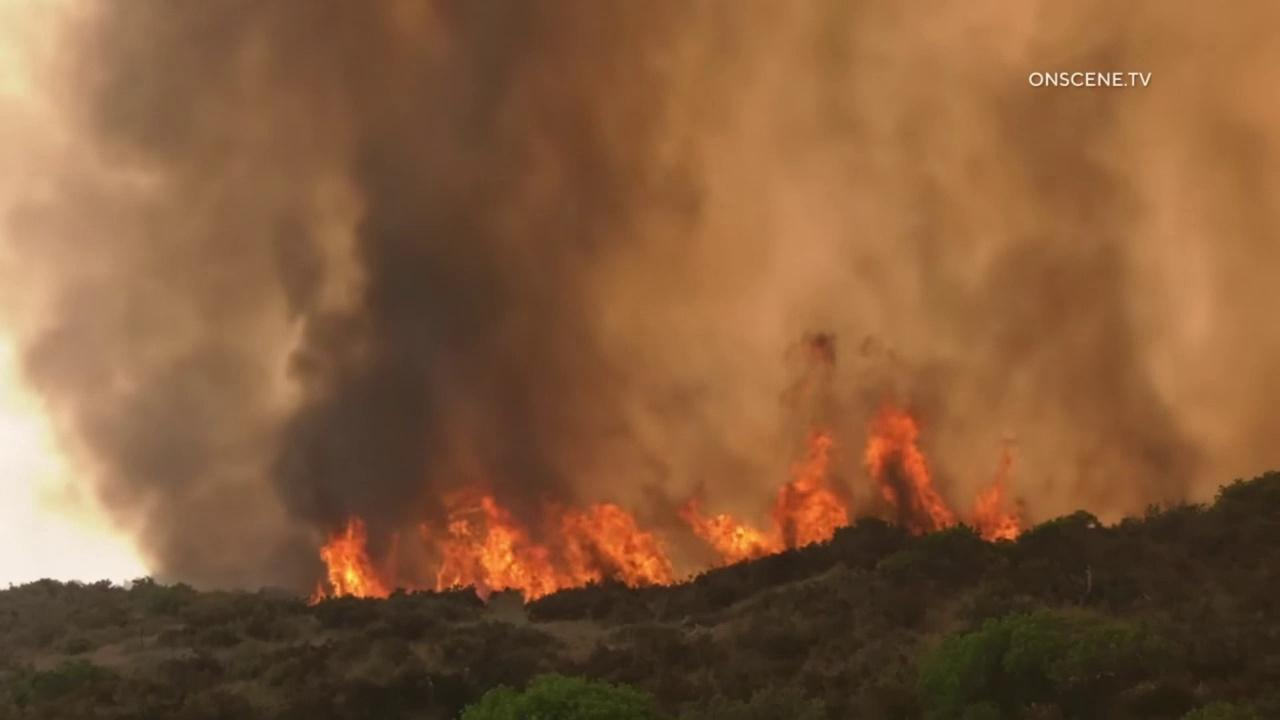fire: (416, 478, 673, 606), (675, 431, 848, 568), (865, 401, 956, 539), (319, 511, 393, 601), (970, 454, 1025, 548), (309, 577, 327, 608)
smoke: (0, 0, 1280, 584)
